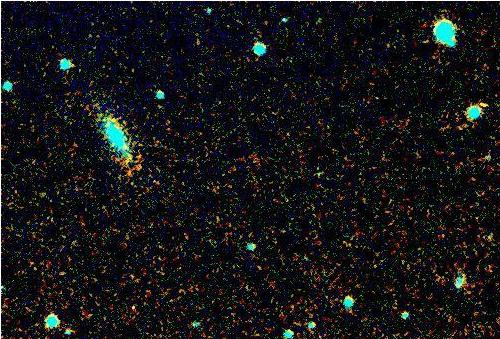star: (470, 89, 500, 119)
